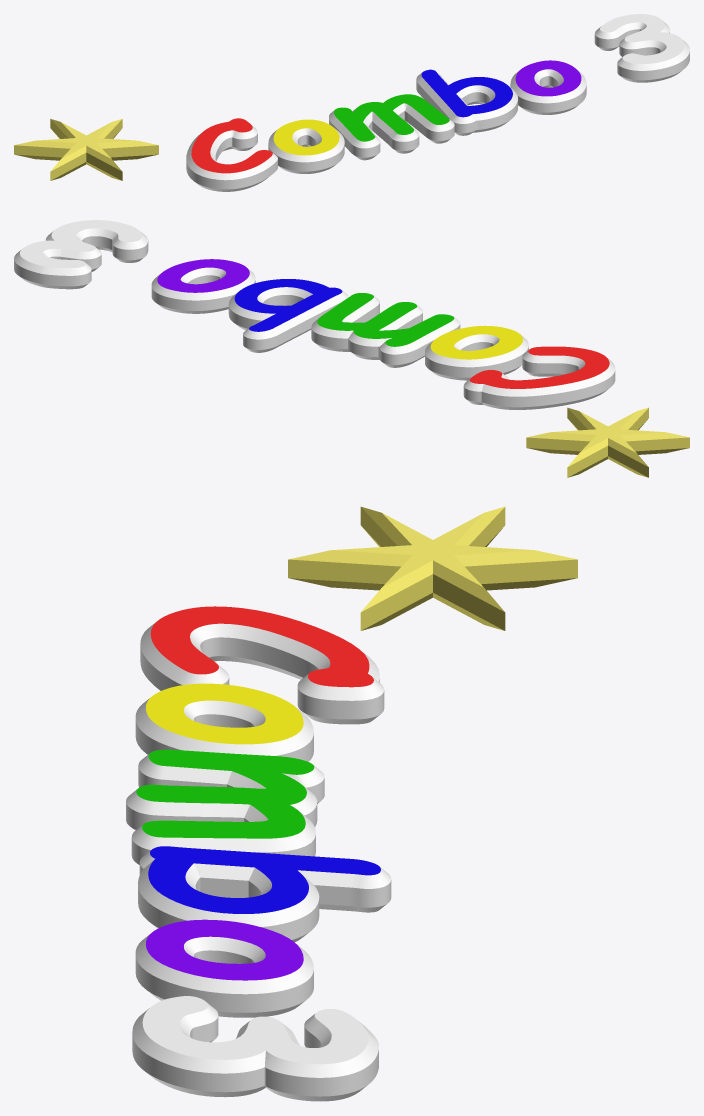
The model's file is combo3.FBX.
3 renders of one model, top to bottom at view 1: azimuth 30°, elevation 25°; view 2: azimuth 150°, elevation 25°; view 3: azimuth 270°, elevation 25°, orthographic. The views are drawn at different scales.
Parts seen in each view (by area): view 1: Text001, Text002, Star001; view 2: Text001, Text002, Star001; view 3: Text001, Text002, Star001.
Part boxes in pixels (x1=…): Text001: x1=186, y1=60, x2=586, y2=191; Text002: x1=594, y1=14, x2=689, y2=82; Star001: x1=14, y1=119, x2=158, y2=180; Text001: x1=151, y1=259, x2=615, y2=409; Text002: x1=14, y1=220, x2=148, y2=289; Star001: x1=526, y1=407, x2=689, y2=477; Text001: x1=126, y1=606, x2=391, y2=1017; Text002: x1=132, y1=996, x2=378, y2=1101; Star001: x1=288, y1=506, x2=577, y2=630.
Bounding box in the file's own units: 0.2716 × 0.0879 × 0.012.
